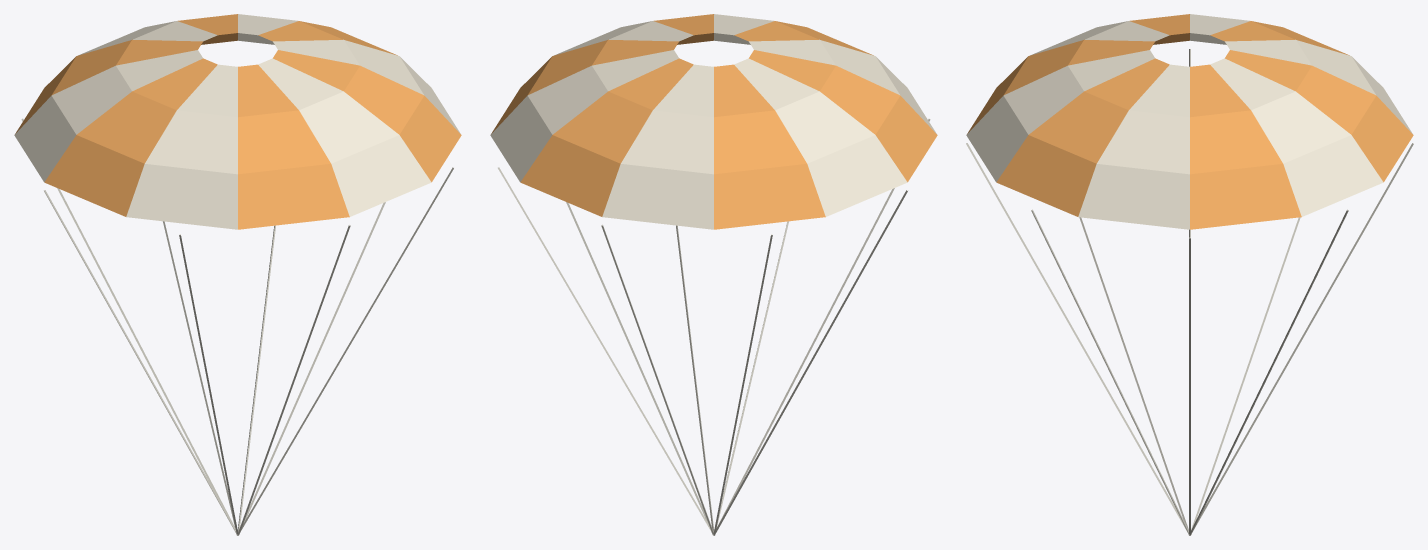
The model's file is prop_parachute.fbx.
3 views of the same model, side by side, from view 1: azimuth 30°, elevation 25°; view 2: azimuth 150°, elevation 25°; view 3: azimuth 270°, elevation 25° (orthographic).
Visible parts, largest first — view 1: prop_parachute; view 2: prop_parachute; view 3: prop_parachute.
Boxes of the visible parts, left/top/right/bottom form: prop_parachute: left=14, top=14, right=461, bottom=535; prop_parachute: left=490, top=14, right=937, bottom=535; prop_parachute: left=966, top=14, right=1413, bottom=535.
Bounding box in the file's own units: 3.11 × 3.72 × 3.11.
